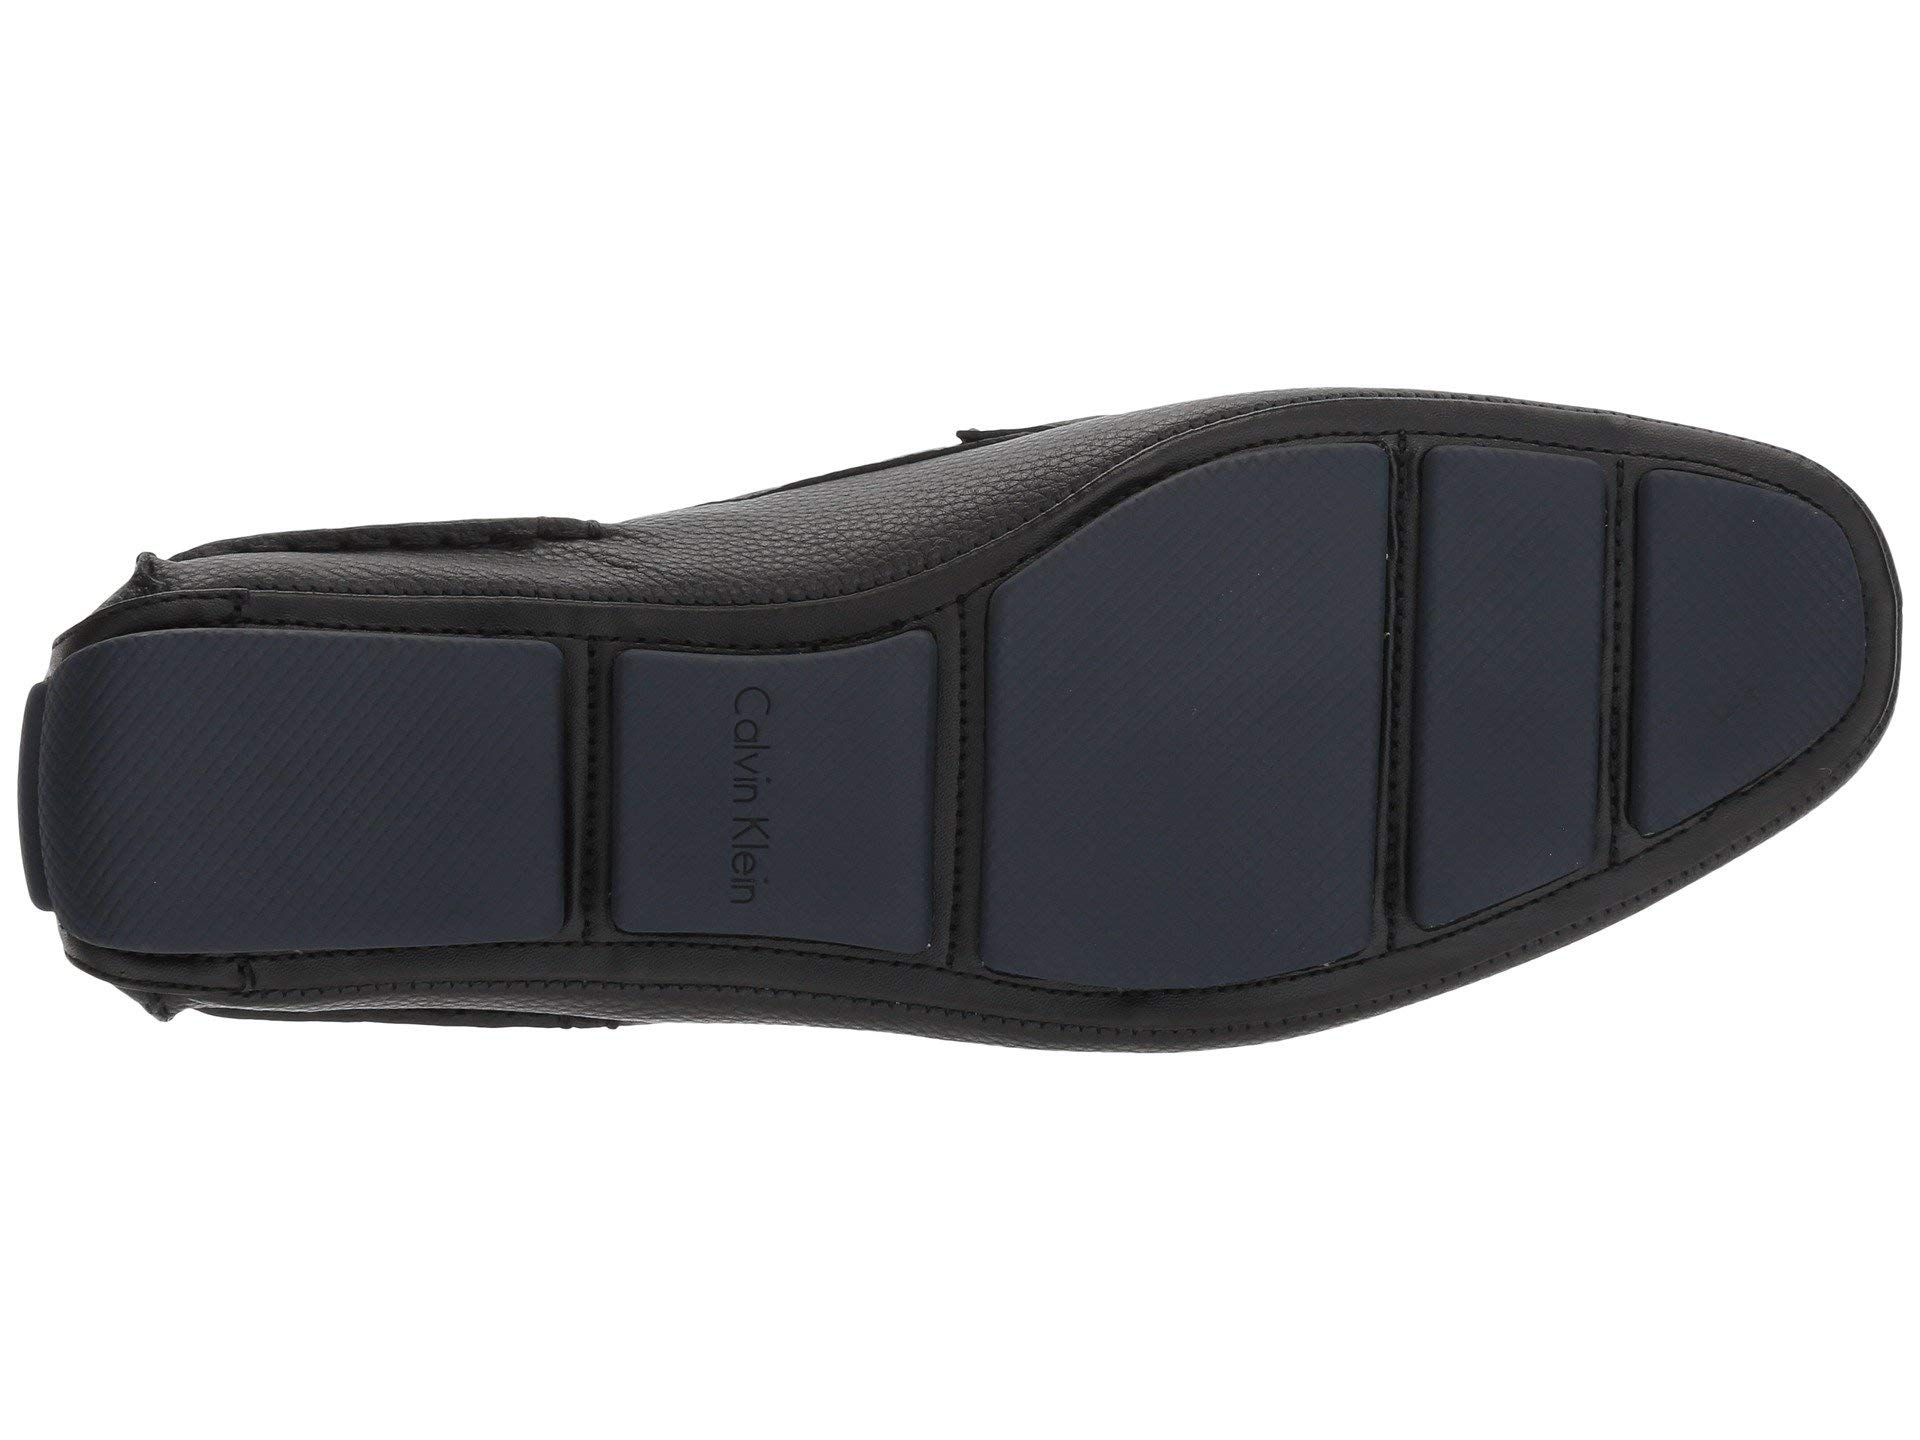circle: (570, 614, 990, 982)
line: (1309, 383, 1696, 933), (68, 597, 550, 971), (570, 614, 990, 982)
quad: (1309, 383, 1696, 933), (68, 597, 550, 971), (570, 614, 990, 982)
text: (570, 614, 990, 982)
